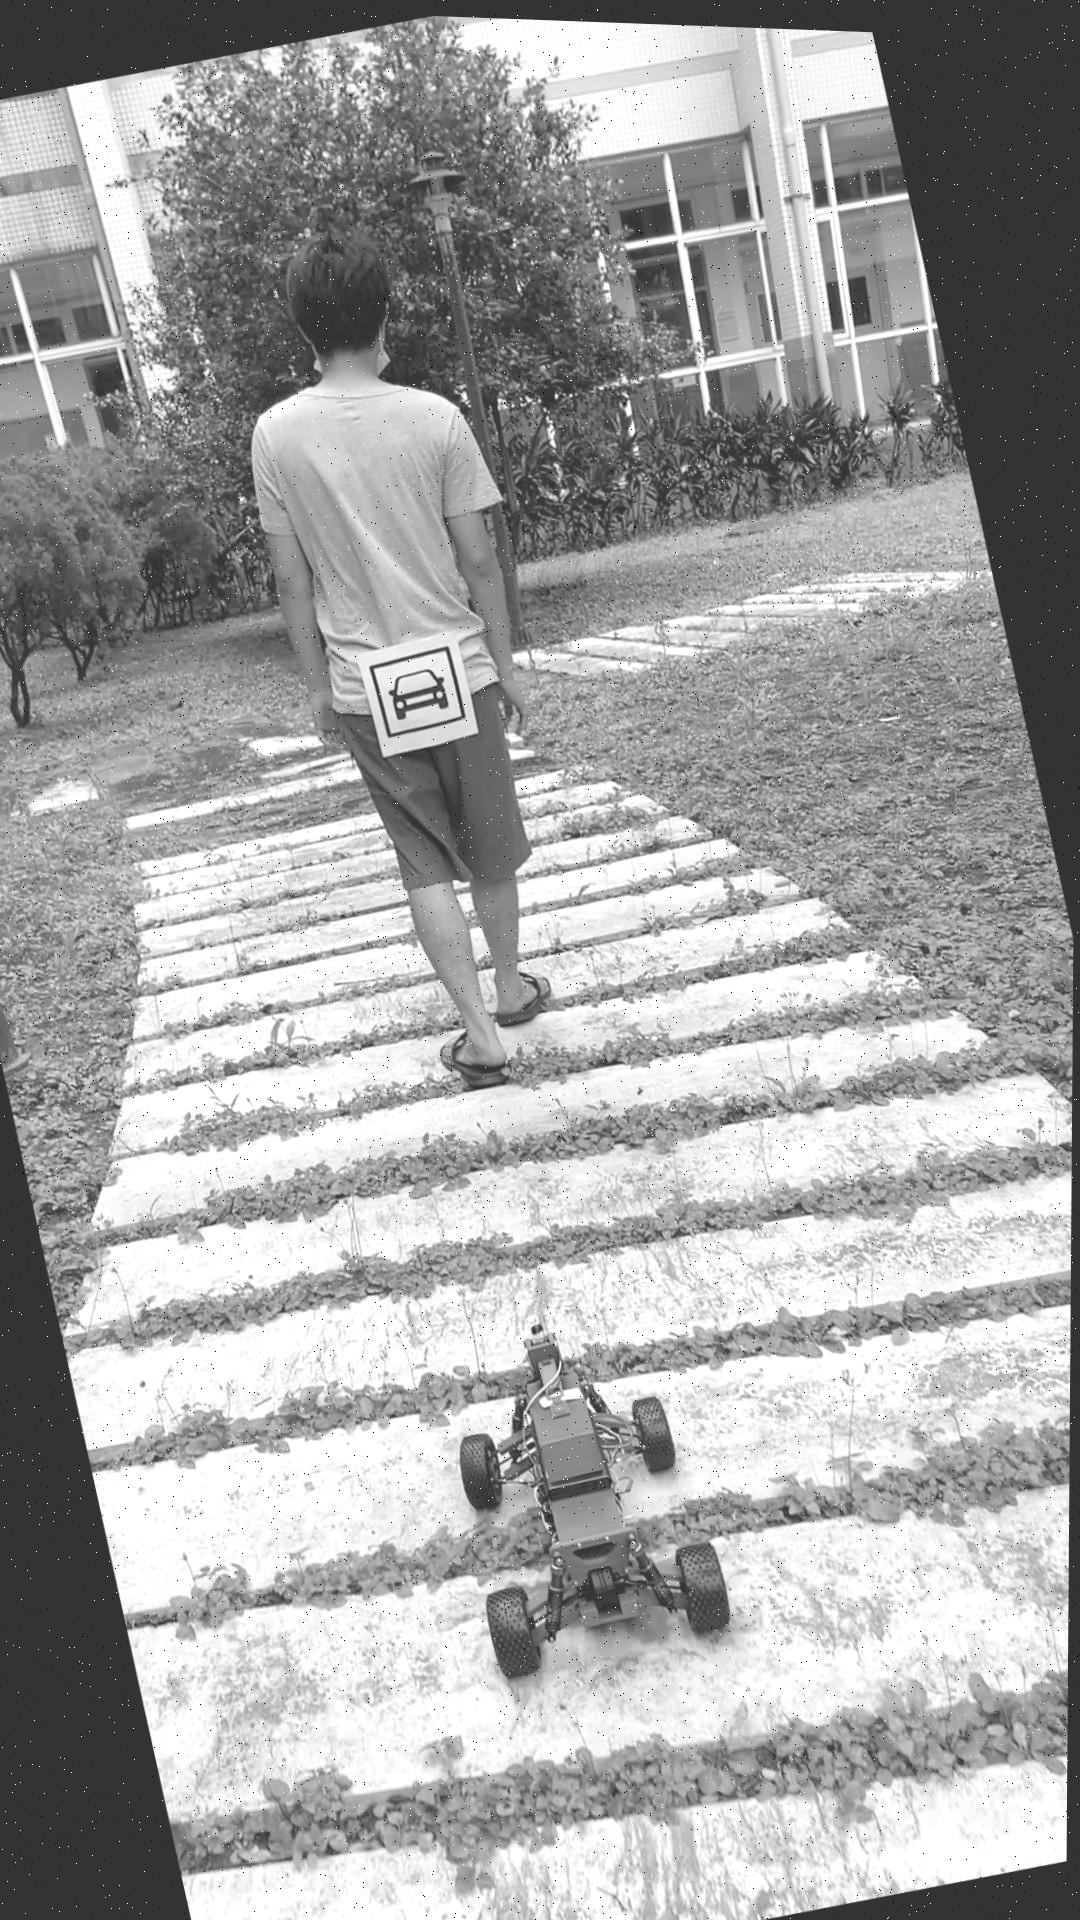car_img: (368, 637, 469, 737)
